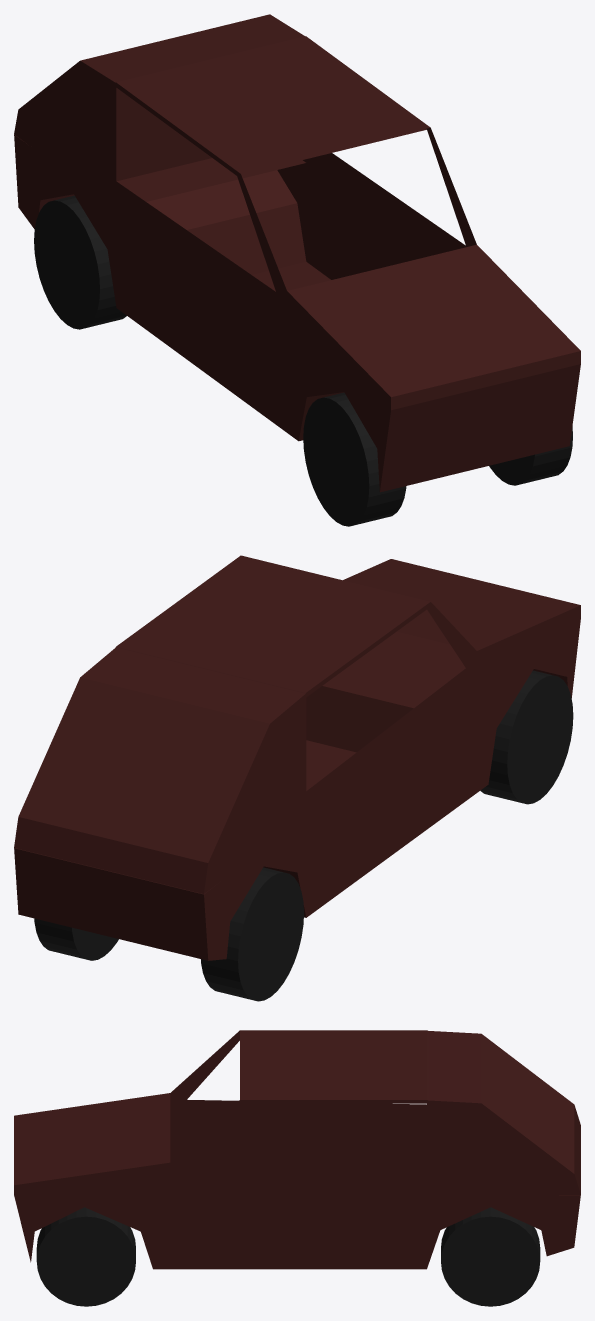
File: car.glb
3 views of the same model, one above another, from view 1: azimuth 30°, elevation 25°; view 2: azimuth 150°, elevation 25°; view 3: azimuth 270°, elevation 25° (orthographic). The views are drawn at different scales.
Visible parts, largest first — view 1: Куб, Цилиндр.003, Цилиндр.002, Цилиндр; view 2: Куб, Цилиндр.002, Цилиндр.003, Цилиндр.001; view 3: Куб, Цилиндр.001, Цилиндр.
Part boxes in pixels (left/top/right/bottom): Куб: left=14, top=14, right=580, bottom=492; Цилиндр.003: left=303, top=392, right=406, bottom=526; Цилиндр.002: left=34, top=195, right=126, bottom=329; Цилиндр: left=489, top=426, right=572, bottom=485; Куб: left=14, top=555, right=580, bottom=960; Цилиндр.002: left=201, top=867, right=303, bottom=1001; Цилиндр.003: left=480, top=670, right=573, bottom=804; Цилиндр.001: left=34, top=918, right=118, bottom=960; Куб: left=14, top=1030, right=580, bottom=1269; Цилиндр.001: left=441, top=1207, right=540, bottom=1306; Цилиндр: left=36, top=1207, right=135, bottom=1306.
Size of the model in its own units: 1.35 by 1.72 by 4.33.
